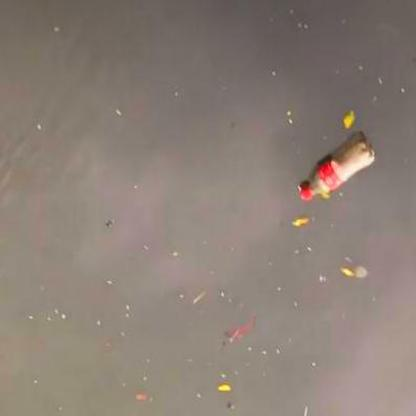plastic bottle: (299, 138, 376, 201)
